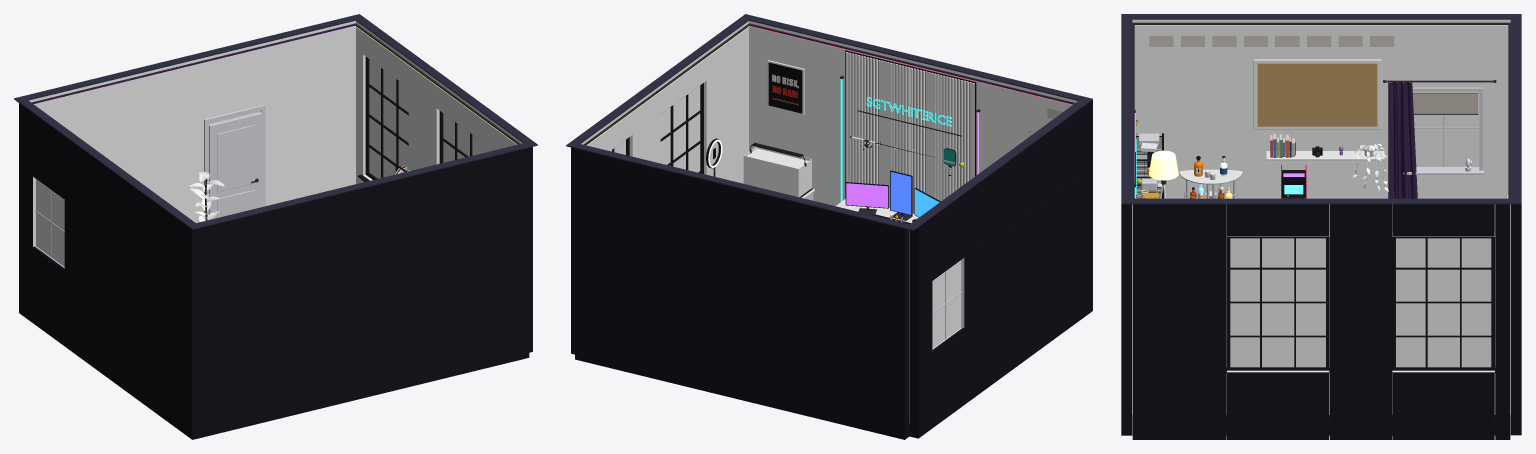
File: room.glb
3 renders of one model, left to right at view 1: azimuth 30°, elevation 25°; view 2: azimuth 150°, elevation 25°; view 3: azimuth 270°, elevation 25°, orthographic. The views are drawn at different scales.
Visible parts, largest first — view 1: Shell_Back, Wall_Front_0, Shell_Left_a, Shell_Left_b, Shell_Left_c, Door_Entry, Loft_Glass1, Wall_Right_3, Cap_Front, Cap_Back, Window_Glass, Cap_Right (+13 smaller); view 2: Shell_Front_0, Wall_Back, Slats, Shell_Left_a, Shell_Left_b, Shell_Left_c, Wall_Right_0, SlatBack, Loft_Glass0, Cap_Front, Cap_Back, Window_Glass (+17 smaller); view 3: Shell_Right_0, Wall_Left_b, Shell_Right_3, Wall_Left_c, Loft_Glass1, Loft_Glass0, HS_contact_screen, Shell_Right_4, Wall_Left_a, Shell_Right_1, Shell_Right_6, Shell_Right_5 (+27 smaller).
Part boxes in pixels (box(x1,y1,x2,y2)): Shell_Back: box(187, 148, 529, 439); Wall_Front_0: box(29, 20, 355, 222); Shell_Left_a: box(19, 237, 187, 435); Shell_Left_b: box(19, 103, 187, 289); Shell_Left_c: box(64, 200, 187, 359); Door_Entry: box(204, 104, 265, 218); Loft_Glass1: box(369, 59, 408, 178); Wall_Right_3: box(408, 59, 436, 170); Cap_Front: box(14, 14, 363, 102); Cap_Back: box(187, 143, 529, 229); Window_Glass: box(36, 179, 64, 266); Cap_Right: box(356, 17, 537, 147); Shell_Front_0: box(575, 148, 909, 439); Wall_Back: box(749, 20, 1077, 205); Slats: box(846, 52, 974, 213); Shell_Left_a: box(910, 238, 1087, 438); Shell_Left_b: box(910, 103, 1087, 291); Shell_Left_c: box(964, 167, 1087, 327); Wall_Right_0: box(706, 21, 748, 183); SlatBack: box(845, 50, 976, 213); Loft_Glass0: box(660, 85, 700, 172); Cap_Front: box(566, 141, 918, 230); Cap_Back: box(749, 16, 1092, 102); Window_Glass: box(932, 260, 961, 348); Shell_Right_0: box(1132, 204, 1226, 439); Wall_Left_b: box(1132, 19, 1510, 91); Shell_Right_3: box(1329, 204, 1392, 439); Wall_Left_c: box(1134, 91, 1388, 169); Loft_Glass1: box(1396, 238, 1491, 367); Loft_Glass0: box(1230, 238, 1325, 367); HS_contact_screen: box(1257, 63, 1377, 126); Shell_Right_4: box(1392, 372, 1494, 439); Wall_Left_a: box(1136, 170, 1508, 198); Shell_Right_1: box(1227, 372, 1328, 439); Shell_Right_6: box(1495, 204, 1510, 439); Shell_Right_5: box(1392, 204, 1494, 236).
Bounding box in the file's own units: 5.68 × 3.32 × 5.08.
